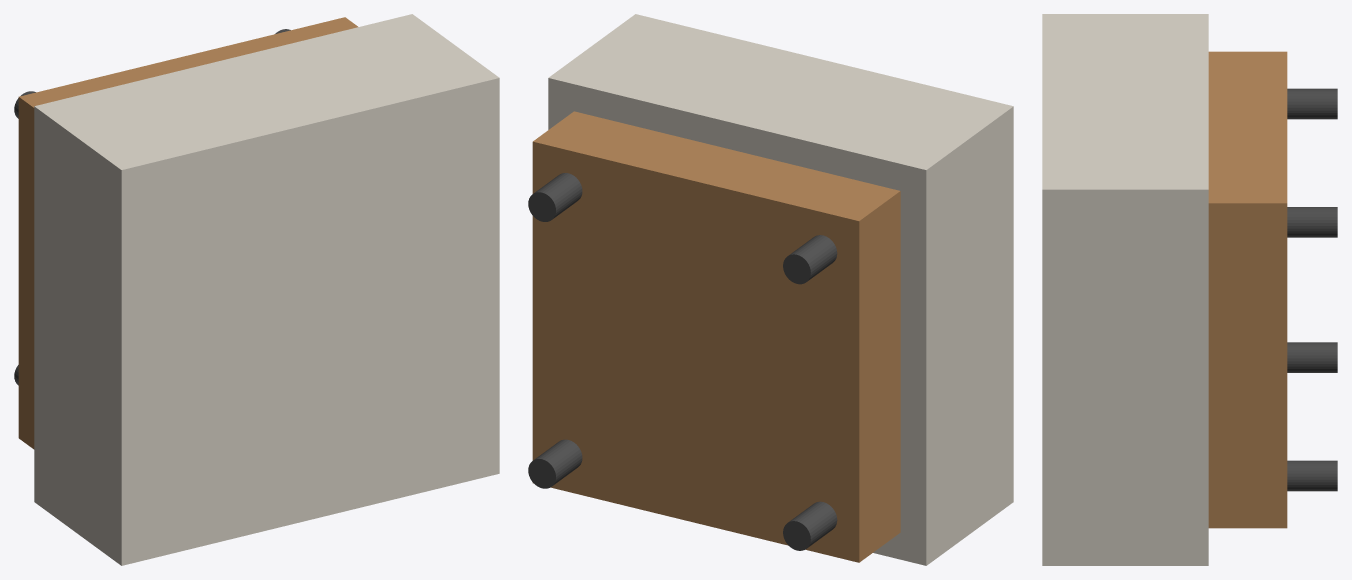
Rendered from poufottoman.glb.
3 renders of one model, left to right at view 1: azimuth 30°, elevation 25°; view 2: azimuth 150°, elevation 25°; view 3: azimuth 270°, elevation 25°, orthographic. The views are drawn at different scales.
Parts seen in each view (by area): view 1: Cushion, Base; view 2: Base, Cushion, world, Leg; view 3: Cushion, Base, world, Leg.
Boxes of the visible parts, box(x1,y1,x2,y2) form: Cushion: box(34, 14, 499, 565); Base: box(18, 17, 357, 449); Base: box(532, 111, 900, 562); Cushion: box(548, 14, 1013, 565); world: box(528, 235, 837, 550); Leg: box(528, 173, 582, 221); Cushion: box(1042, 14, 1208, 565); Base: box(1208, 51, 1287, 528); world: box(1287, 88, 1337, 491); Leg: box(1287, 207, 1337, 237).
Size of the model in its own units: 0.95 by 0.95 by 0.675.
